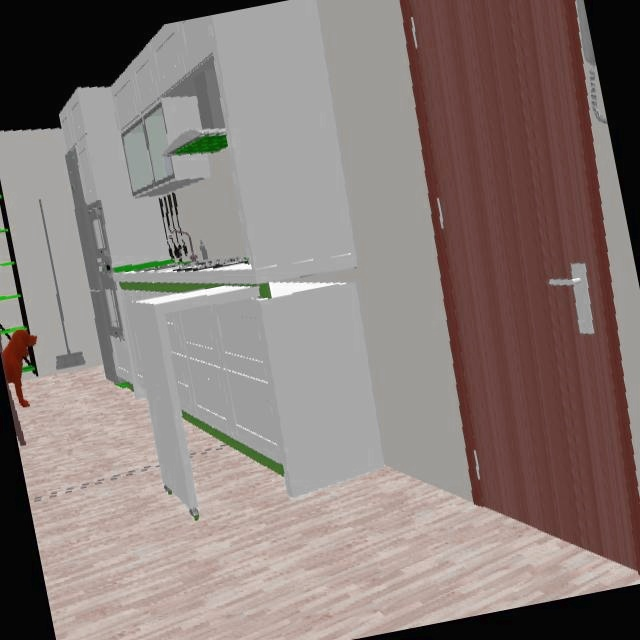cabinet: (60, 16, 216, 264), (167, 300, 282, 464)
fridge: (66, 149, 120, 382)
microwave: (88, 200, 111, 265)
oven: (99, 263, 124, 337)
sink: (170, 229, 198, 263), (136, 263, 179, 272)
stove: (174, 255, 248, 272)
